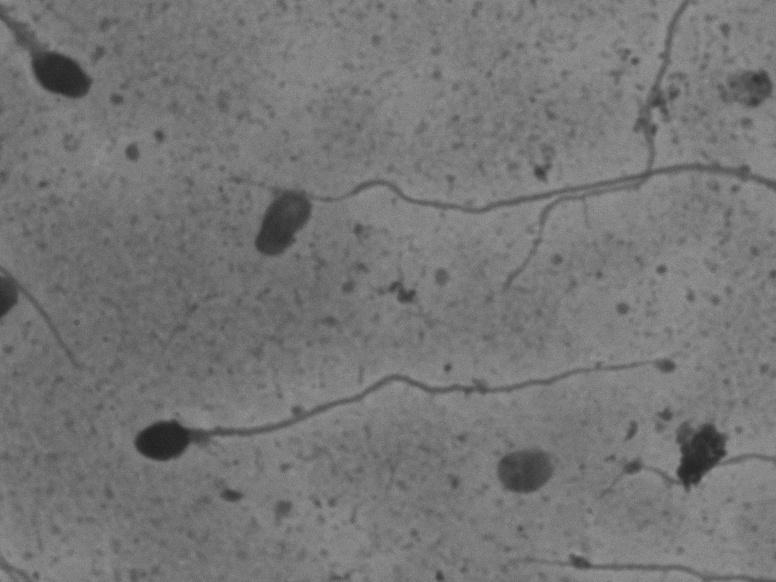Abnormal: (91, 341, 656, 474), (238, 159, 336, 294)
